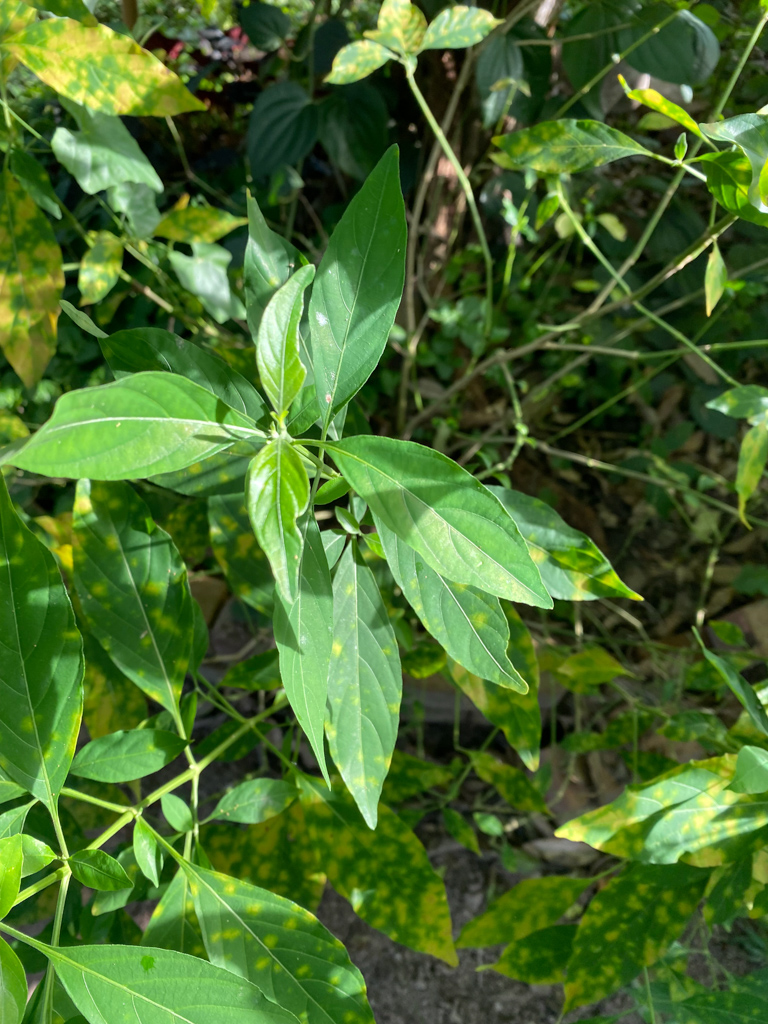Pepper yellow leaf: (295, 777, 463, 974), (480, 865, 698, 1010), (194, 861, 379, 1014), (71, 497, 199, 716), (546, 759, 753, 861), (13, 14, 206, 121), (3, 172, 74, 398), (332, 4, 498, 83), (490, 113, 651, 194), (448, 653, 548, 758), (525, 517, 636, 611), (332, 621, 398, 764), (156, 202, 242, 242)
